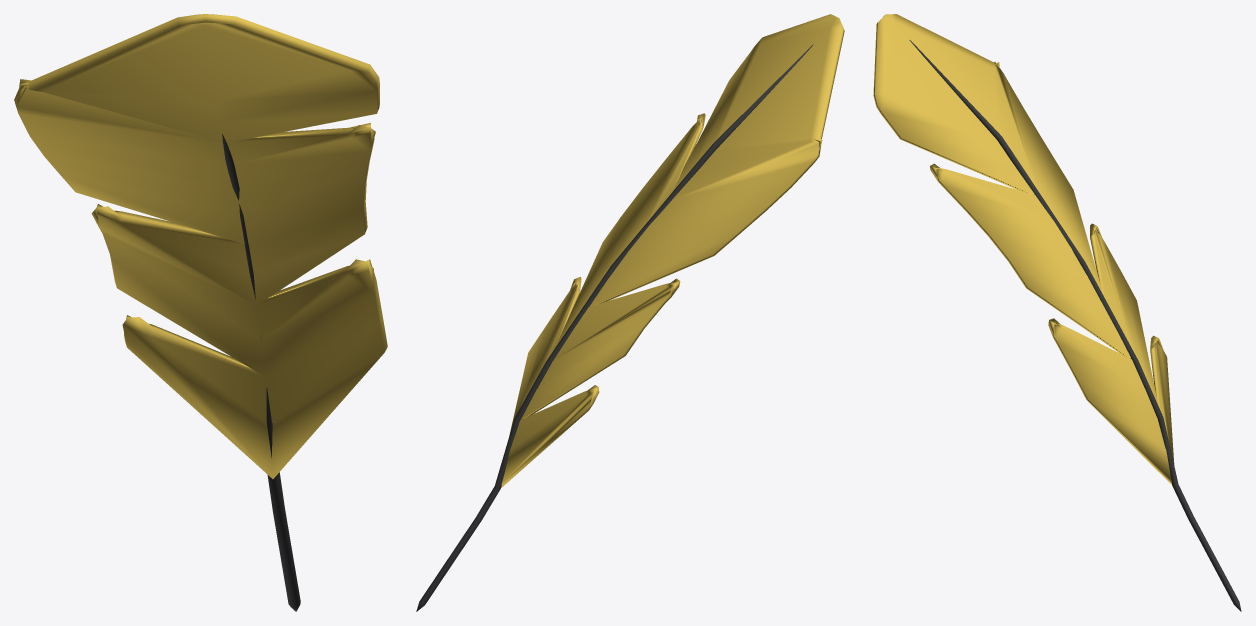
Rendered from Pena.fbx.
3 views of the same model, side by side, from view 1: azimuth 30°, elevation 25°; view 2: azimuth 150°, elevation 25°; view 3: azimuth 270°, elevation 25° (orthographic). The views are drawn at different scales.
Parts seen in each view (by area): view 1: Pena, Cylinder.001; view 2: Pena, Cylinder.001; view 3: Pena, Cylinder.001.
Part boxes in pixels (x1,y1,x2,y2): Pena: (14, 14, 387, 478); Cylinder.001: (222, 134, 300, 611); Pena: (501, 14, 844, 487); Cylinder.001: (416, 44, 813, 611); Pena: (873, 14, 1174, 484); Cylinder.001: (909, 40, 1241, 611).
Size of the model in its own units: 72.09 by 128 by 87.4.
